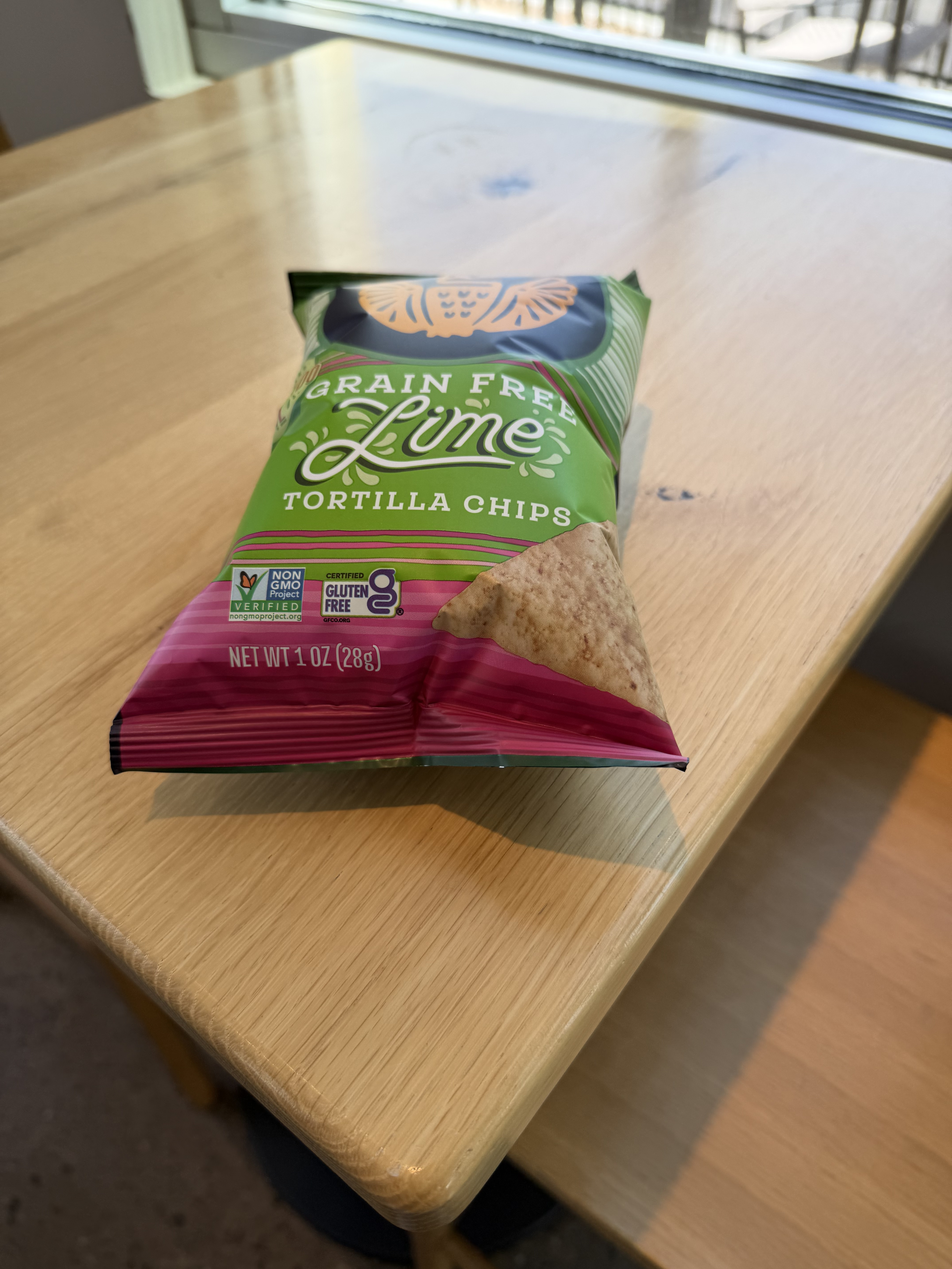lime: (153, 234, 685, 803)
